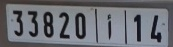0: (74, 12, 87, 39)
1: (131, 12, 143, 43)
2: (58, 11, 70, 39)
3: (12, 9, 24, 37), (28, 10, 38, 37)
4: (149, 13, 163, 44)
8: (42, 10, 54, 38)
a: (105, 13, 114, 41)
